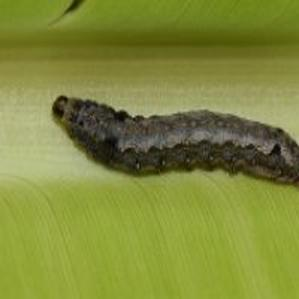Tobacco cutworm: (25, 60, 299, 227)
